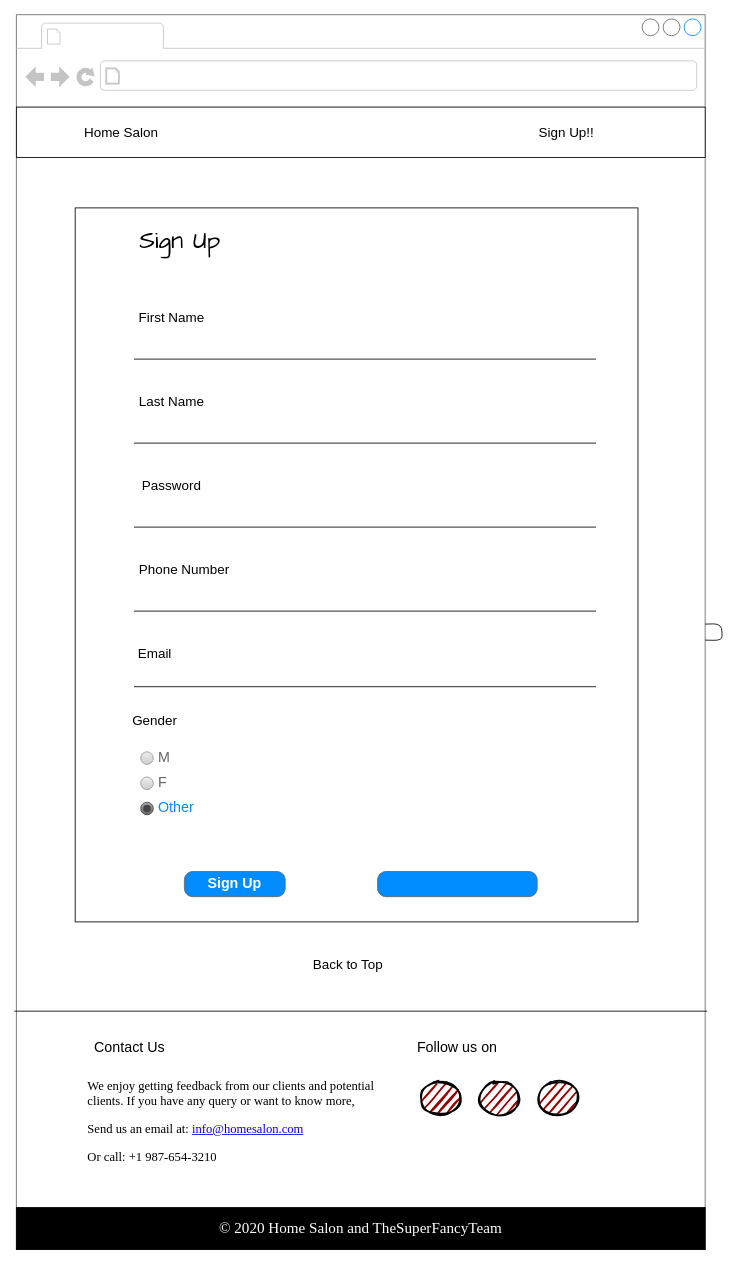
Image size: 738x1264. Some labels were removed from this diagram. Here are the shapes that lost their labels. From the top down, the centre of each, then its label:
[112,35]: The Home Salon App
[230,75]: https://homesalon
[457,884]: Back to home page
